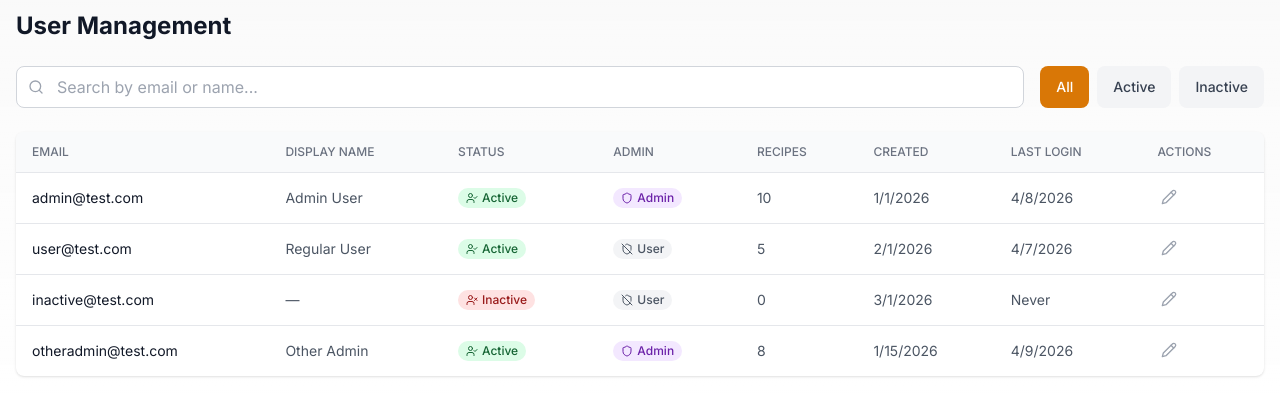
Test: UsersPage › status filter shows inactive users
This screenshot has width=1280, height=394.
expect the text "admin@test.com" is shown: met, box [16, 172, 269, 224]
Click the button "Inactive". click: (1222, 87)
box: [1179, 66, 1264, 108]
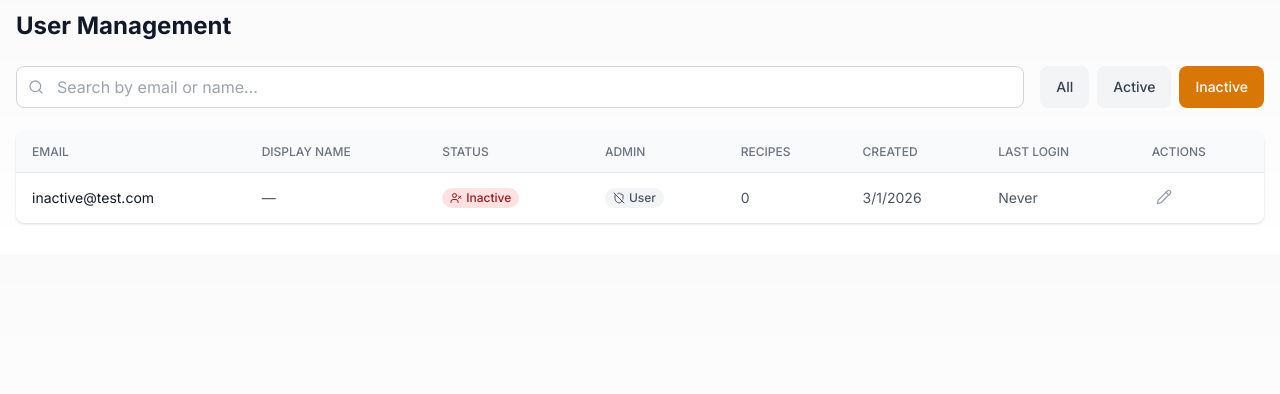
expect the text "inactive@test.com" is shown: met, box [16, 172, 246, 223]
expect the text "admin@test.com" is gone: met
